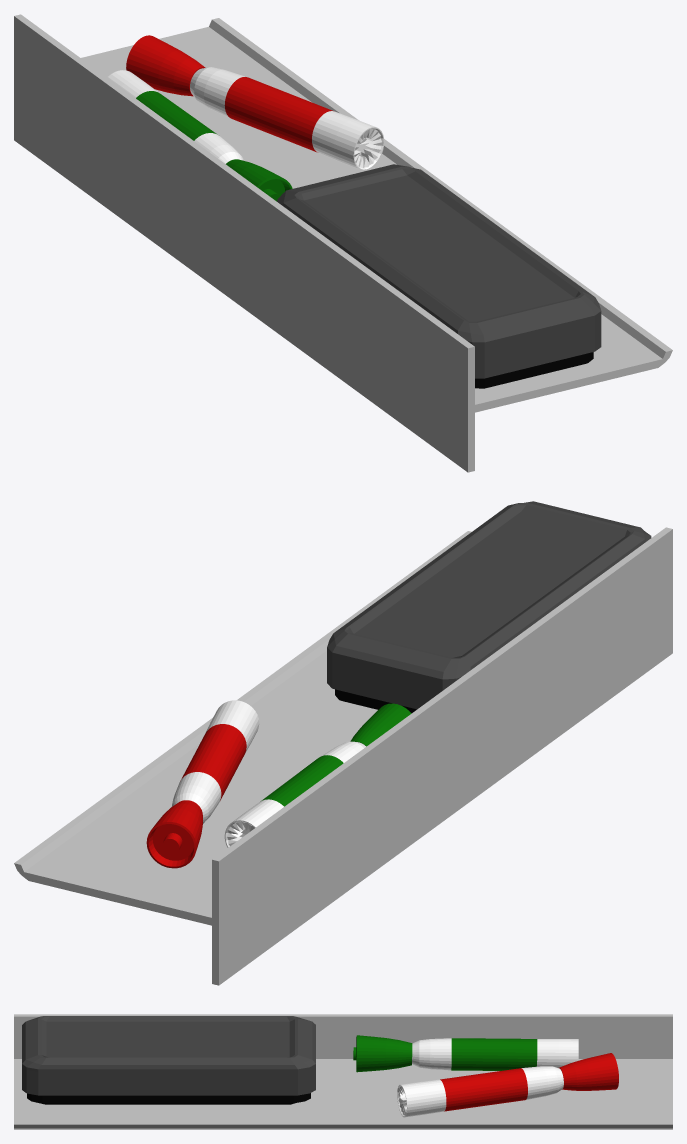
Rendered from WhiteBoardShelf.fbx.
The picture shows the model from 3 angles, top to bottom: view 1: azimuth 30°, elevation 25°; view 2: azimuth 150°, elevation 25°; view 3: azimuth 270°, elevation 25°; orthographic projection. The views are drawn at different scales.
Parts seen in each view (by area): view 1: WhiteboardShelf, ErazerTop, RedMarker_WhiteBody, RedMarker-RedBody, RedMarkerCap, GreenMarker_WhiteBody, GreenMarker-GreenBody, EraserFuzz, GreenMarkerCap; view 2: WhiteboardShelf, ErazerTop, RedMarkerCap, RedMarker_WhiteBody, RedMarker-RedBody, GreenMarker_WhiteBody, GreenMarker-GreenBody, GreenMarkerCap; view 3: WhiteboardShelf, ErazerTop, GreenMarker-GreenBody, EraserFuzz, RedMarker-RedBody, RedMarker_WhiteBody, GreenMarker_WhiteBody, GreenMarkerCap, RedMarkerCap.
Boxes of the visible parts, x1=… form: WhiteboardShelf: x1=14, y1=14, x2=672, y2=472; ErazerTop: x1=277, y1=164, x2=601, y2=378; RedMarker_WhiteBody: x1=190, y1=67, x2=384, y2=170; RedMarker-RedBody: x1=224, y1=77, x2=333, y2=152; RedMarkerCap: x1=126, y1=35, x2=205, y2=96; GreenMarker_WhiteBody: x1=107, y1=70, x2=243, y2=163; GreenMarker-GreenBody: x1=136, y1=91, x2=217, y2=140; EraserFuzz: x1=475, y1=352, x2=593, y2=388; GreenMarkerCap: x1=226, y1=159, x2=292, y2=201; WhiteboardShelf: x1=14, y1=527, x2=672, y2=985; ErazerTop: x1=327, y1=501, x2=651, y2=709; RedMarkerCap: x1=146, y1=800, x2=202, y2=868; RedMarker_WhiteBody: x1=171, y1=700, x2=259, y2=823; RedMarker-RedBody: x1=180, y1=724, x2=246, y2=800; GreenMarker_WhiteBody: x1=224, y1=741, x2=366, y2=847; GreenMarker-GreenBody: x1=260, y1=755, x2=343, y2=806; GreenMarkerCap: x1=350, y1=703, x2=411, y2=746; WhiteboardShelf: x1=14, y1=1014, x2=672, y2=1129; ErazerTop: x1=22, y1=1016, x2=315, y2=1095; GreenMarker-GreenBody: x1=451, y1=1038, x2=537, y2=1070; EraserFuzz: x1=27, y1=1093, x2=310, y2=1104; RedMarker-RedBody: x1=440, y1=1068, x2=527, y2=1111; RedMarker_WhiteBody: x1=397, y1=1066, x2=563, y2=1117; GreenMarker_WhiteBody: x1=412, y1=1038, x2=578, y2=1070; GreenMarkerCap: x1=353, y1=1035, x2=412, y2=1072; RedMarkerCap: x1=559, y1=1053, x2=618, y2=1090.
Bounding box in the file's own units: 1061 × 649 × 4069.
